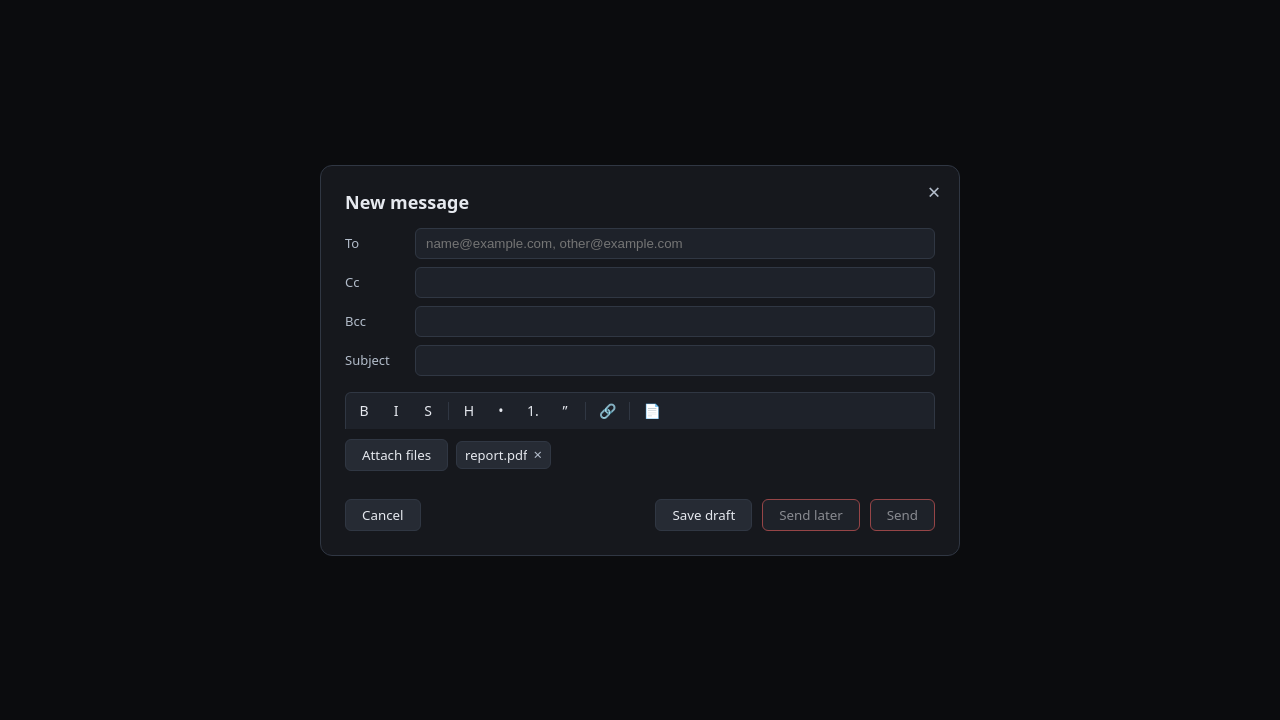
ComposeModal: paste and drop intake › removes a pasted attachment from its chip
The width and height of the screenshot is (1280, 720).
Check: the text titled "report.pdf" is shown, box [465,446,527,464]
Click the button named "Remove report.pdf" at [538, 454], box [533,447,542,462]
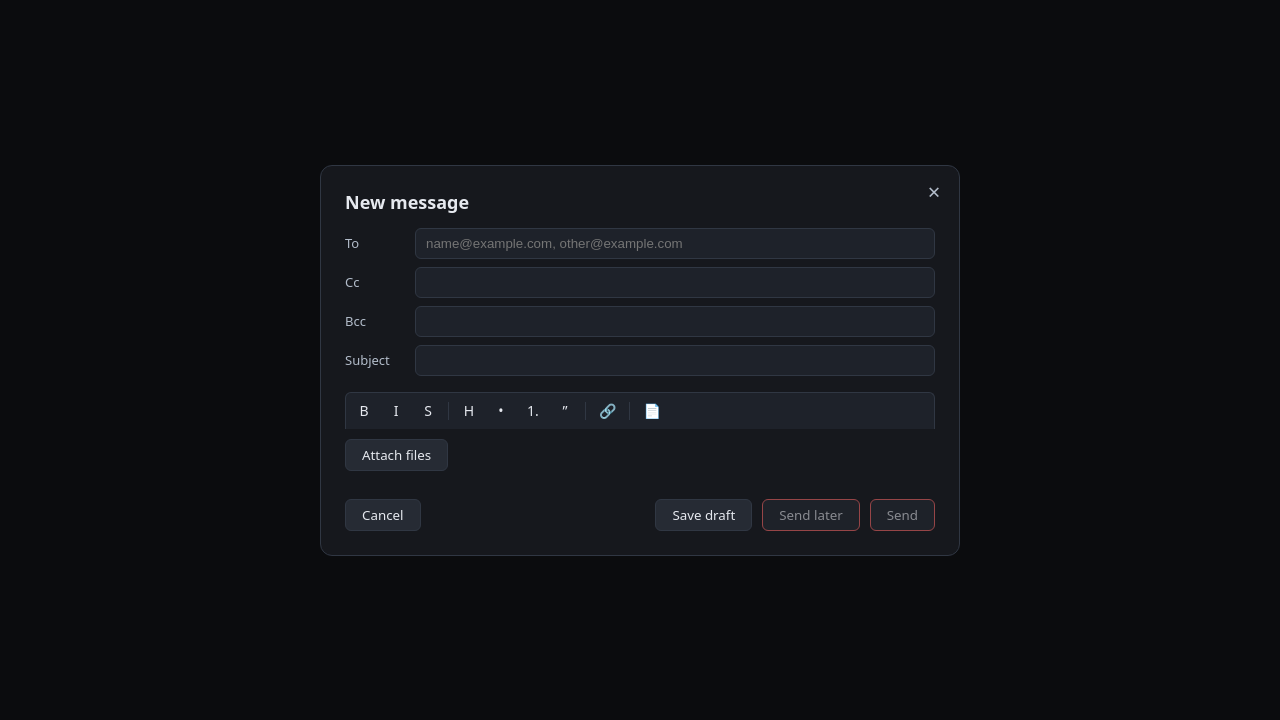
Check: the text titled "report.pdf" is gone
